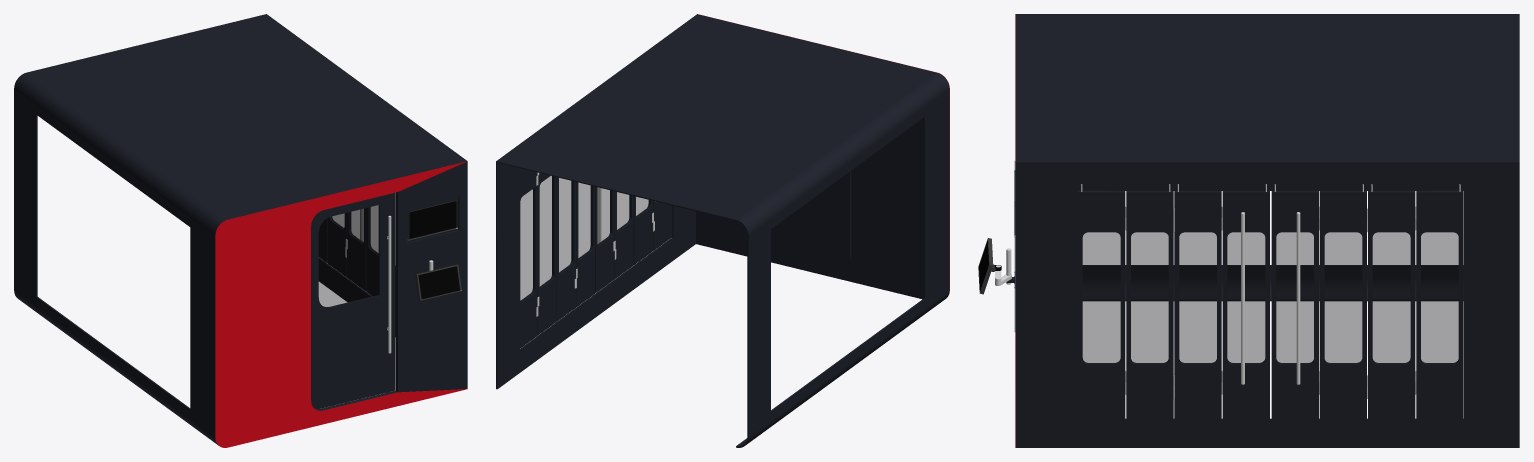
Rendered from asset.glb.
The picture shows the model from 3 angles, left to right: view 1: azimuth 30°, elevation 25°; view 2: azimuth 150°, elevation 25°; view 3: azimuth 270°, elevation 25°; orthographic projection. The views are drawn at different scales.
Visible parts, largest first — view 1: BoxCoverObject, FrontPanel, DoorMain, D5, Cube.061, Cube.001, D4, D6; view 2: BoxCoverObject, FrontPanel, DoorMain, D8, D7, D6, D5, D4, D3, D2, D1; view 3: BoxCoverObject, D8, D1, D3, D2, D7, D6, D5, D4, FrontPanel, Cube.001.
Part boxes in pixels (x1=…): BoxCoverObject: x1=14, y1=14, x2=464, y2=442; FrontPanel: x1=212, y1=159, x2=467, y2=447; DoorMain: x1=311, y1=193, x2=395, y2=408; D5: x1=345, y1=208, x2=366, y2=290; Cube.061: x1=407, y1=199, x2=457, y2=240; Cube.001: x1=415, y1=264, x2=461, y2=300; D4: x1=366, y1=205, x2=378, y2=295; D6: x1=327, y1=213, x2=346, y2=276; BoxCoverObject: x1=496, y1=16, x2=947, y2=447; FrontPanel: x1=695, y1=14, x2=949, y2=299; DoorMain: x1=771, y1=171, x2=851, y2=266; D8: x1=519, y1=168, x2=538, y2=348; D7: x1=537, y1=172, x2=556, y2=335; D6: x1=556, y1=177, x2=576, y2=321; D5: x1=576, y1=182, x2=594, y2=307; D4: x1=595, y1=186, x2=615, y2=293; D3: x1=614, y1=191, x2=633, y2=278; D2: x1=633, y1=196, x2=653, y2=264; D1: x1=653, y1=201, x2=672, y2=250; BoxCoverObject: x1=1022, y1=14, x2=1519, y2=447; D8: x1=1415, y1=184, x2=1463, y2=420; D1: x1=1078, y1=184, x2=1126, y2=420; D3: x1=1173, y1=184, x2=1222, y2=420; D2: x1=1125, y1=184, x2=1174, y2=420; D7: x1=1367, y1=184, x2=1416, y2=420; D6: x1=1319, y1=184, x2=1367, y2=420; D5: x1=1271, y1=184, x2=1319, y2=420; D4: x1=1221, y1=184, x2=1269, y2=420; FrontPanel: x1=1015, y1=14, x2=1021, y2=447; Cube.001: x1=978, y1=238, x2=993, y2=294.
Bounding box in the file's own units: 2.99 × 2.5 × 4.3.
